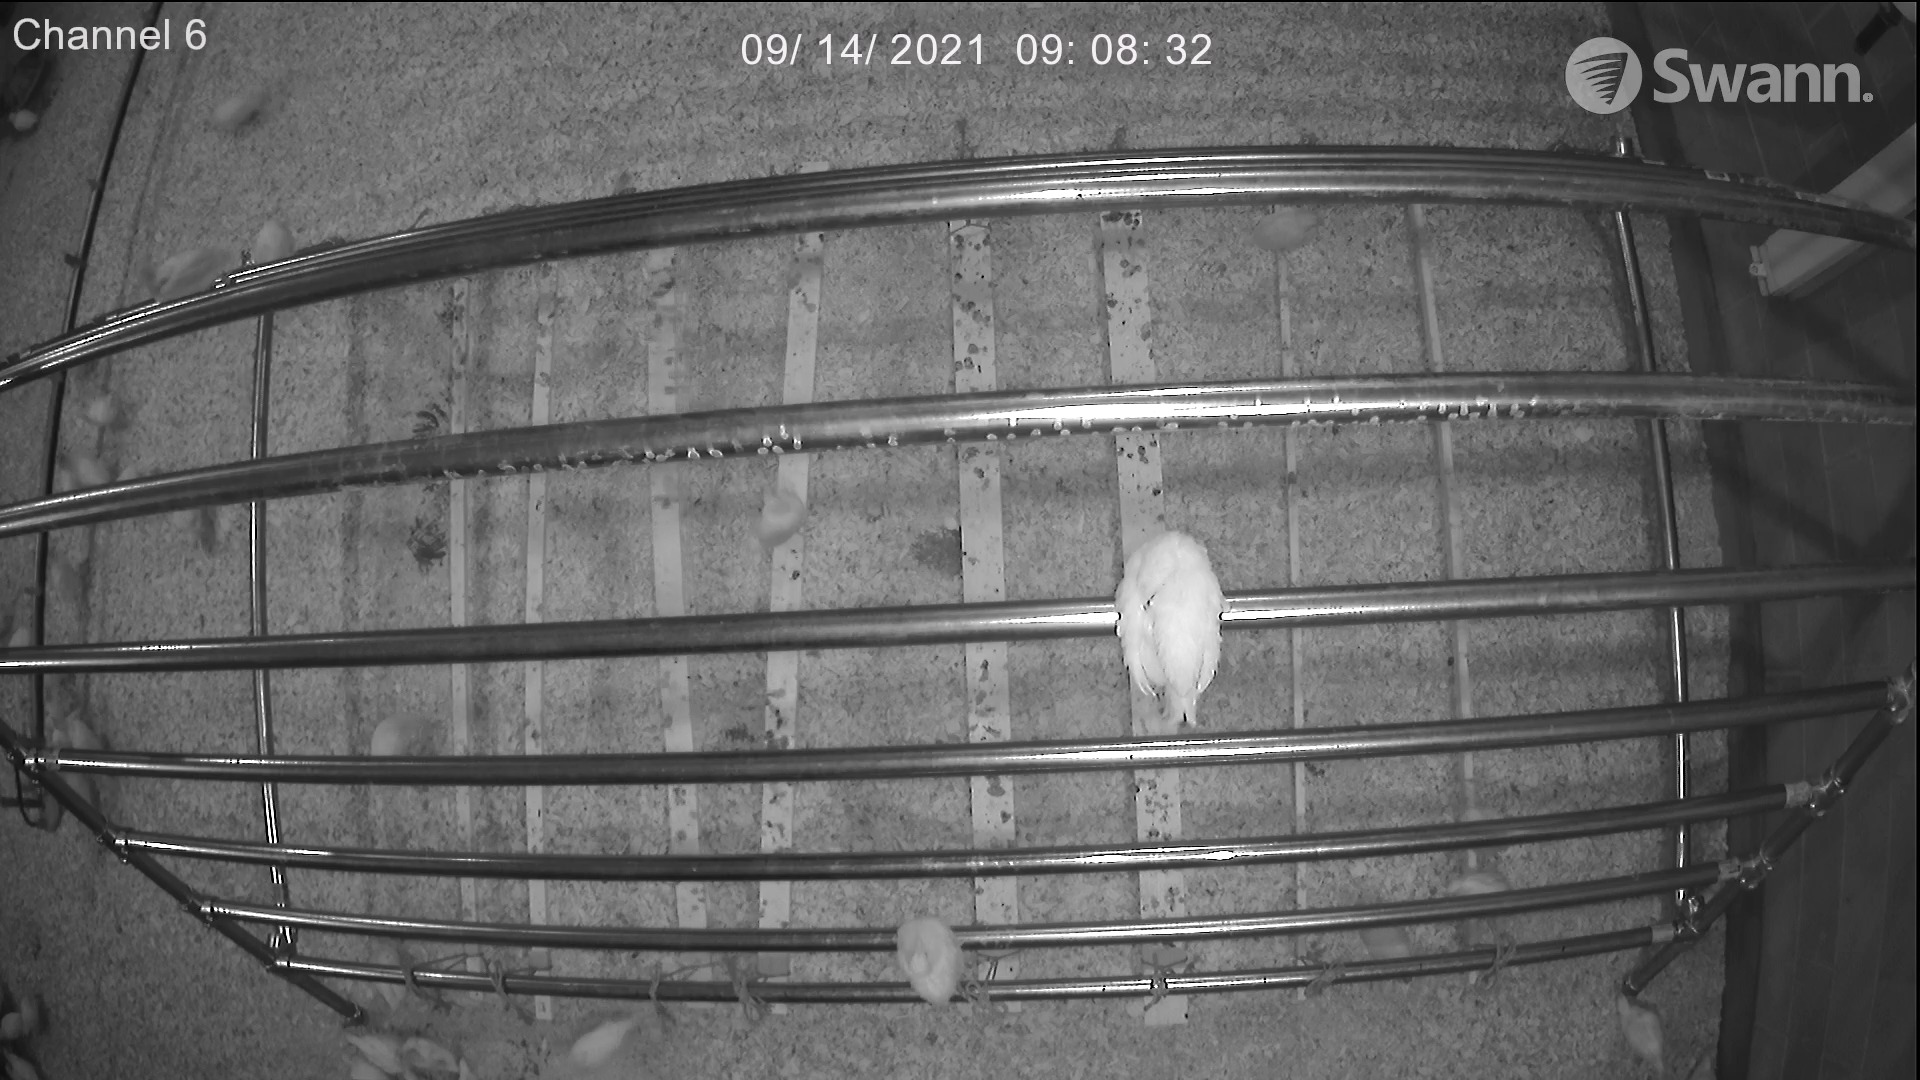Perching: (1079, 521, 1244, 737), (136, 225, 253, 305), (884, 906, 971, 1010), (727, 472, 828, 559), (1244, 200, 1331, 270), (1423, 851, 1516, 895)
